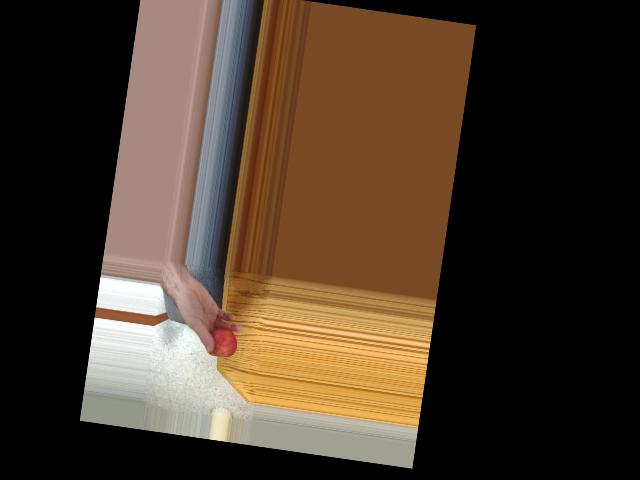apple: (202, 324, 238, 359)
